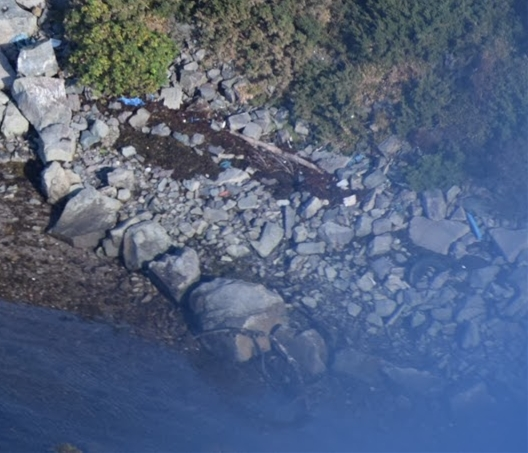straight_bar: (225, 125, 321, 174), (453, 202, 494, 244)
together_barrel: (119, 89, 362, 207)
tube: (191, 325, 270, 376), (294, 299, 338, 359), (270, 333, 305, 385)
